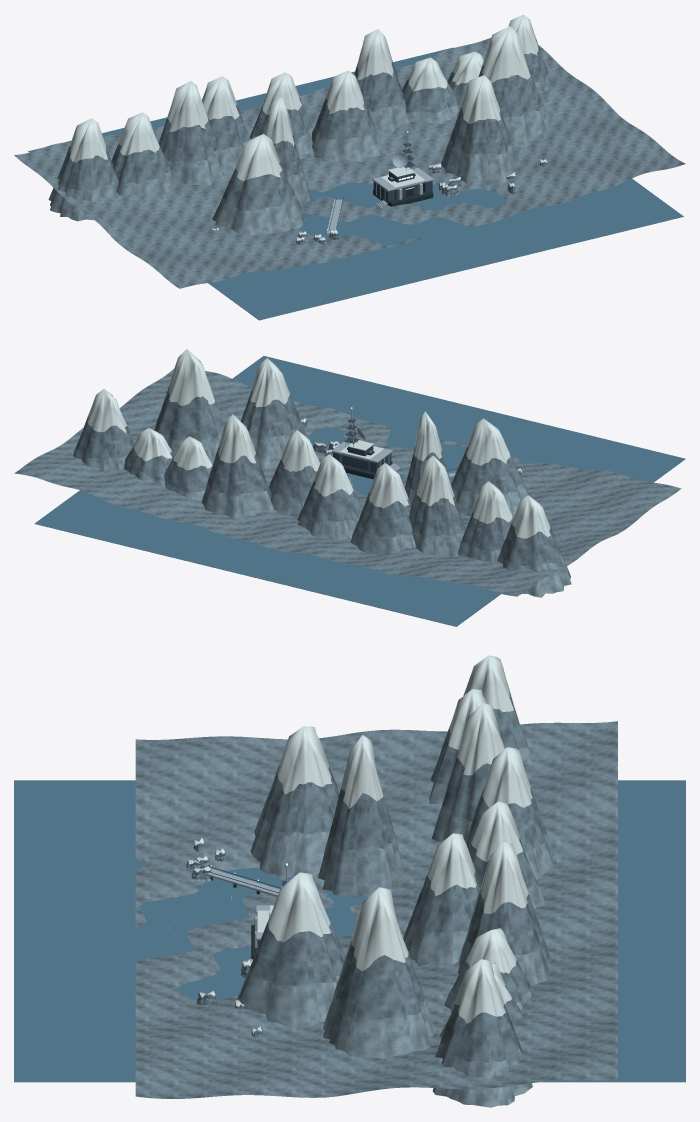
The model's file is frost-v1.glb.
3 renders of one model, top to bottom at view 1: azimuth 30°, elevation 25°; view 2: azimuth 150°, elevation 25°; view 3: azimuth 270°, elevation 25°, orthographic. The views are drawn at different scales.
Visible parts, largest first — view 1: frost strata 1, Glacial lake, Surface mantle.002, frost strata 0, Concrete and brushed alloy.002, Oxidised armour.002; view 2: frost strata 1, Glacial lake, Surface mantle.002, frost strata 0, Oxidised armour.002, Concrete and brushed alloy.002; view 3: frost strata 1, Glacial lake, Surface mantle.002, frost strata 0, Concrete and brushed alloy.002.
Part boxes in pixels (x1,y1,x2,y2): frost strata 1: [14, 38, 685, 288]; Glacial lake: [28, 47, 683, 320]; Surface mantle.002: [69, 14, 546, 240]; frost strata 0: [48, 73, 552, 240]; Concrete and brushed alloy.002: [326, 132, 433, 234]; Oxidised armour.002: [328, 142, 432, 230]; frost strata 1: [14, 368, 681, 596]; Glacial lake: [34, 356, 685, 626]; Surface mantle.002: [87, 349, 550, 538]; frost strata 0: [73, 420, 571, 597]; Oxidised armour.002: [333, 419, 457, 478]; Concrete and brushed alloy.002: [331, 409, 455, 477]; frost strata 1: [135, 688, 617, 1098]; Glacial lake: [14, 780, 685, 1082]; Surface mantle.002: [188, 655, 532, 1033]; frost strata 0: [191, 744, 554, 1107]; Concrete and brushed alloy.002: [205, 865, 287, 947].
Size of the model in its own units: 205 by 43.35 by 160.
10 materials, 3 textured.
